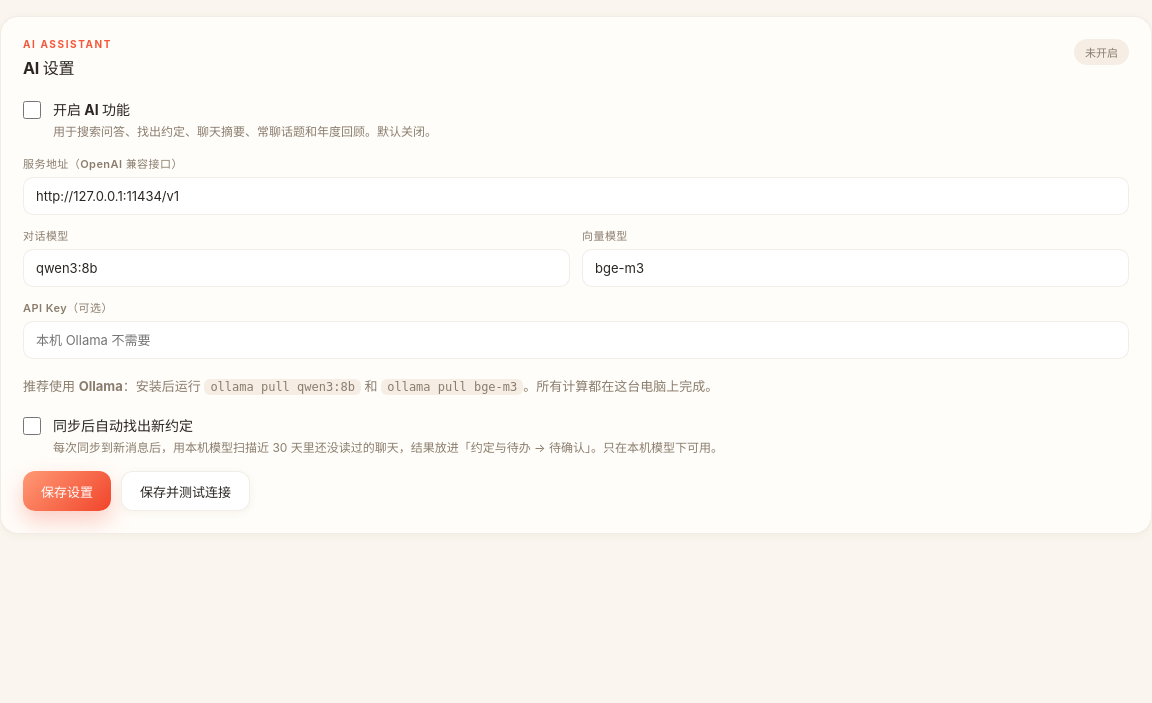
Test: AiSettings › saves without resending an untouched API key
The image size is (1152, 703).
Step 1. Click the checkbox labelled "开启 AI 功能 用于搜索问答、找出约定、聊天摘要、常聊话题和年度回顾。默认关闭。" → (32, 110), box [23, 101, 41, 119]
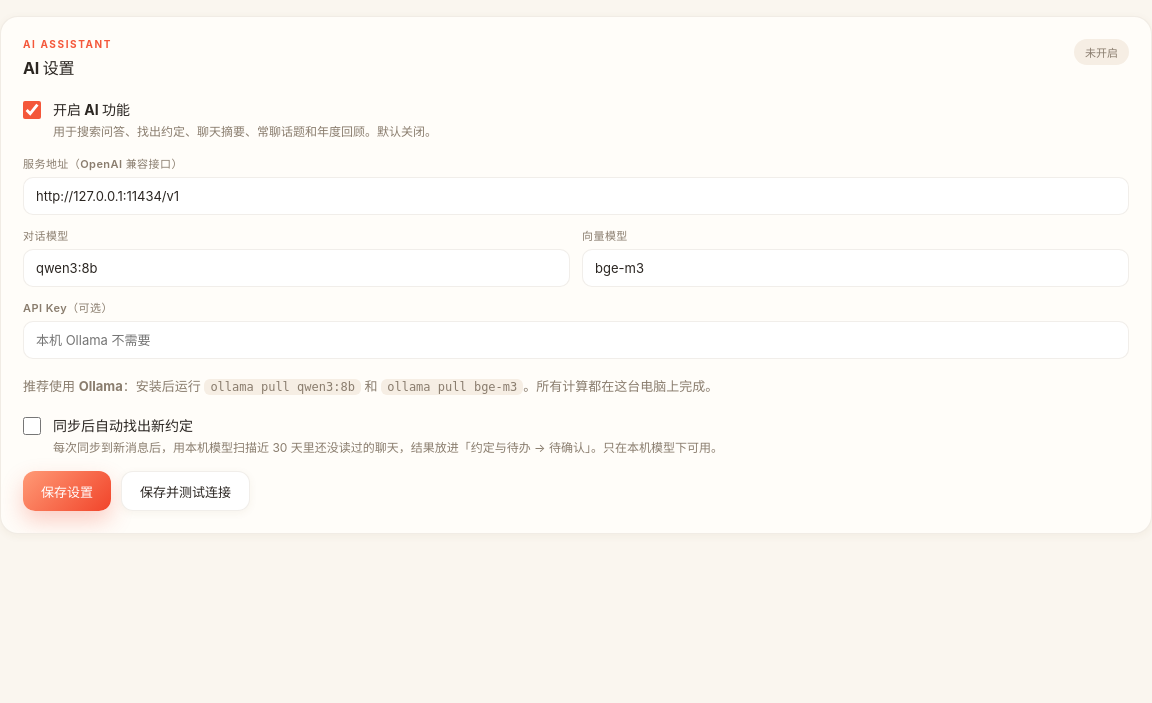
Step 2. Click the button "保存设置" → (67, 491), box [23, 471, 111, 511]
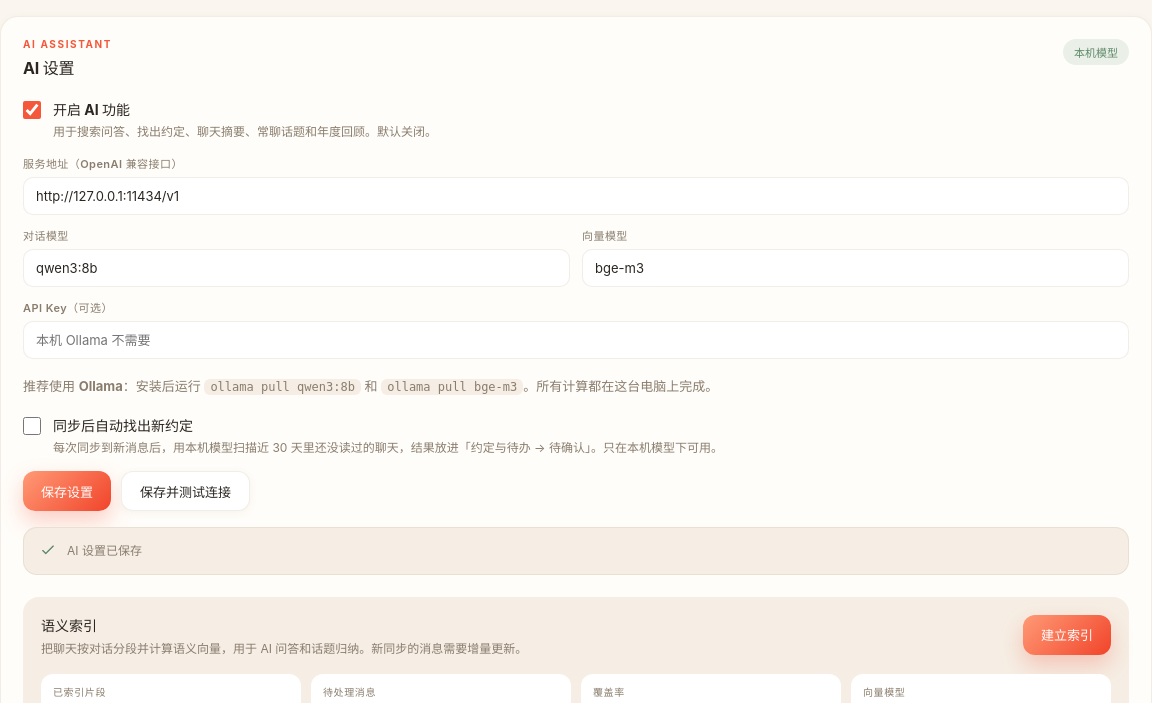
Now the button "建立索引" is enabled, box [1023, 615, 1111, 655]
